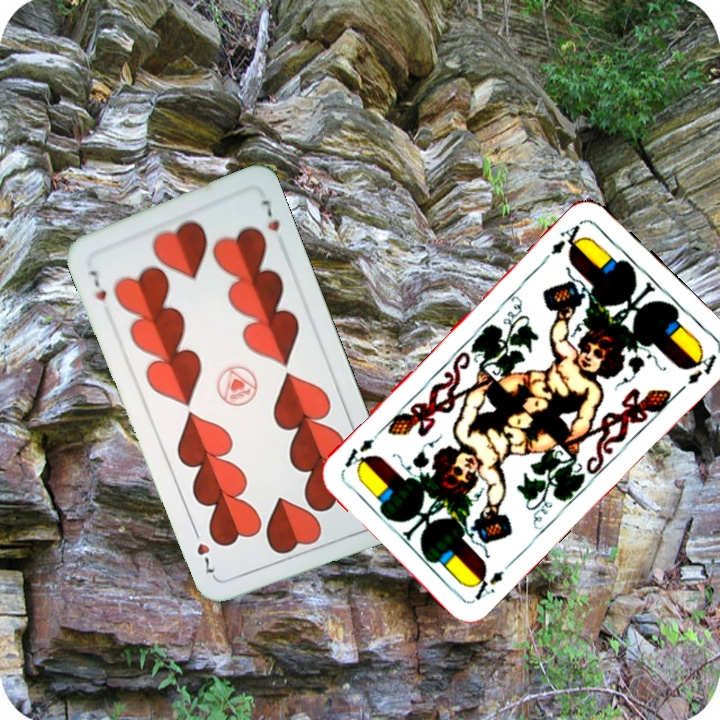EA: (466, 556, 516, 603), (546, 217, 588, 258)
H7: (85, 266, 109, 303)
